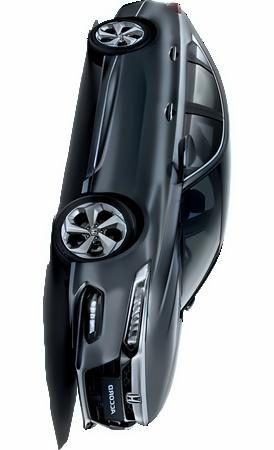Car hood: (142, 200, 189, 432)
Driver-s door - -F-R-: (99, 108, 232, 183)
Fender - -F-R-: (83, 187, 185, 266)
Fender - -R-R-: (147, 6, 195, 47)
Front bumper: (63, 256, 126, 437)
Headlight - -R-: (121, 256, 154, 361)
Passenger-s door - -R-R-: (108, 46, 234, 108)
Rear bumper: (106, 0, 151, 19)
Rear light - -R-: (167, 0, 192, 22)
Side bumper - -R-: (77, 43, 124, 201)
Side mirror - -L-: (178, 288, 199, 318)
Side mirror - -R-: (173, 128, 202, 182)
